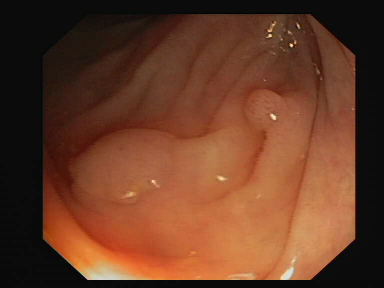polyp: (54, 112, 210, 216), (228, 76, 295, 139)
